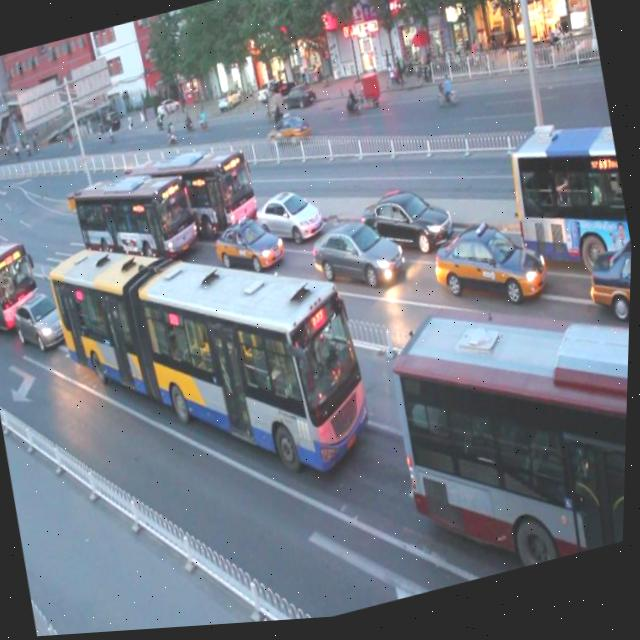car: (429, 216, 555, 340), (305, 212, 407, 313), (359, 183, 459, 276), (208, 210, 288, 291), (250, 183, 326, 263), (12, 288, 76, 357), (582, 246, 633, 329)
van: (38, 182, 386, 539), (383, 267, 633, 600), (499, 117, 636, 290), (67, 154, 205, 294), (126, 131, 265, 264), (0, 216, 43, 327)
